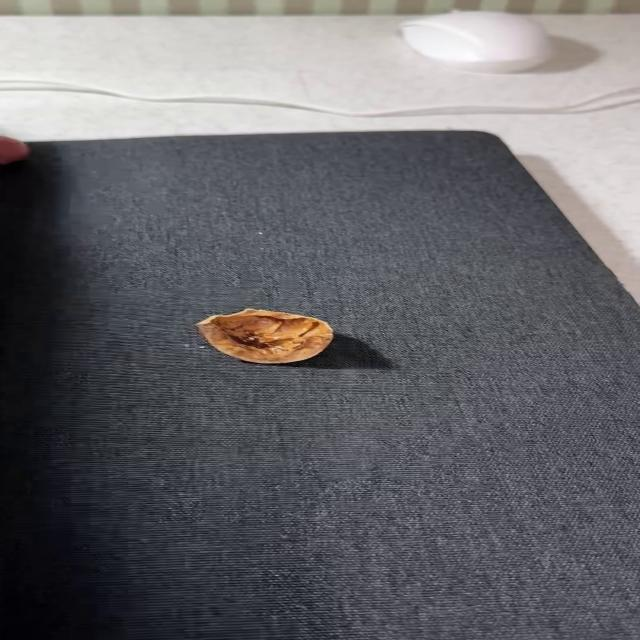nuts-bad0.25: (197, 309, 333, 364)
